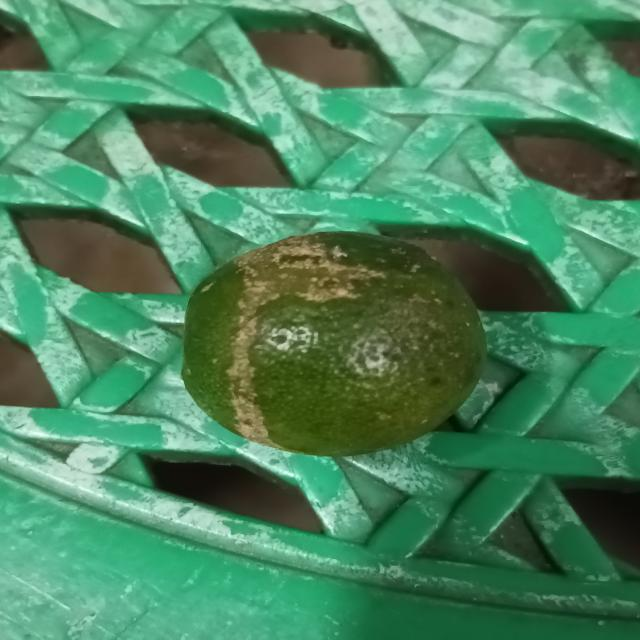thrips: (174, 226, 490, 462)
